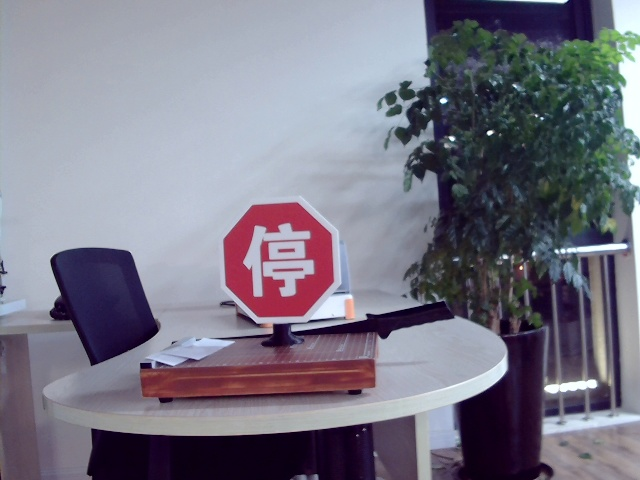stop: (240, 223, 314, 297)
